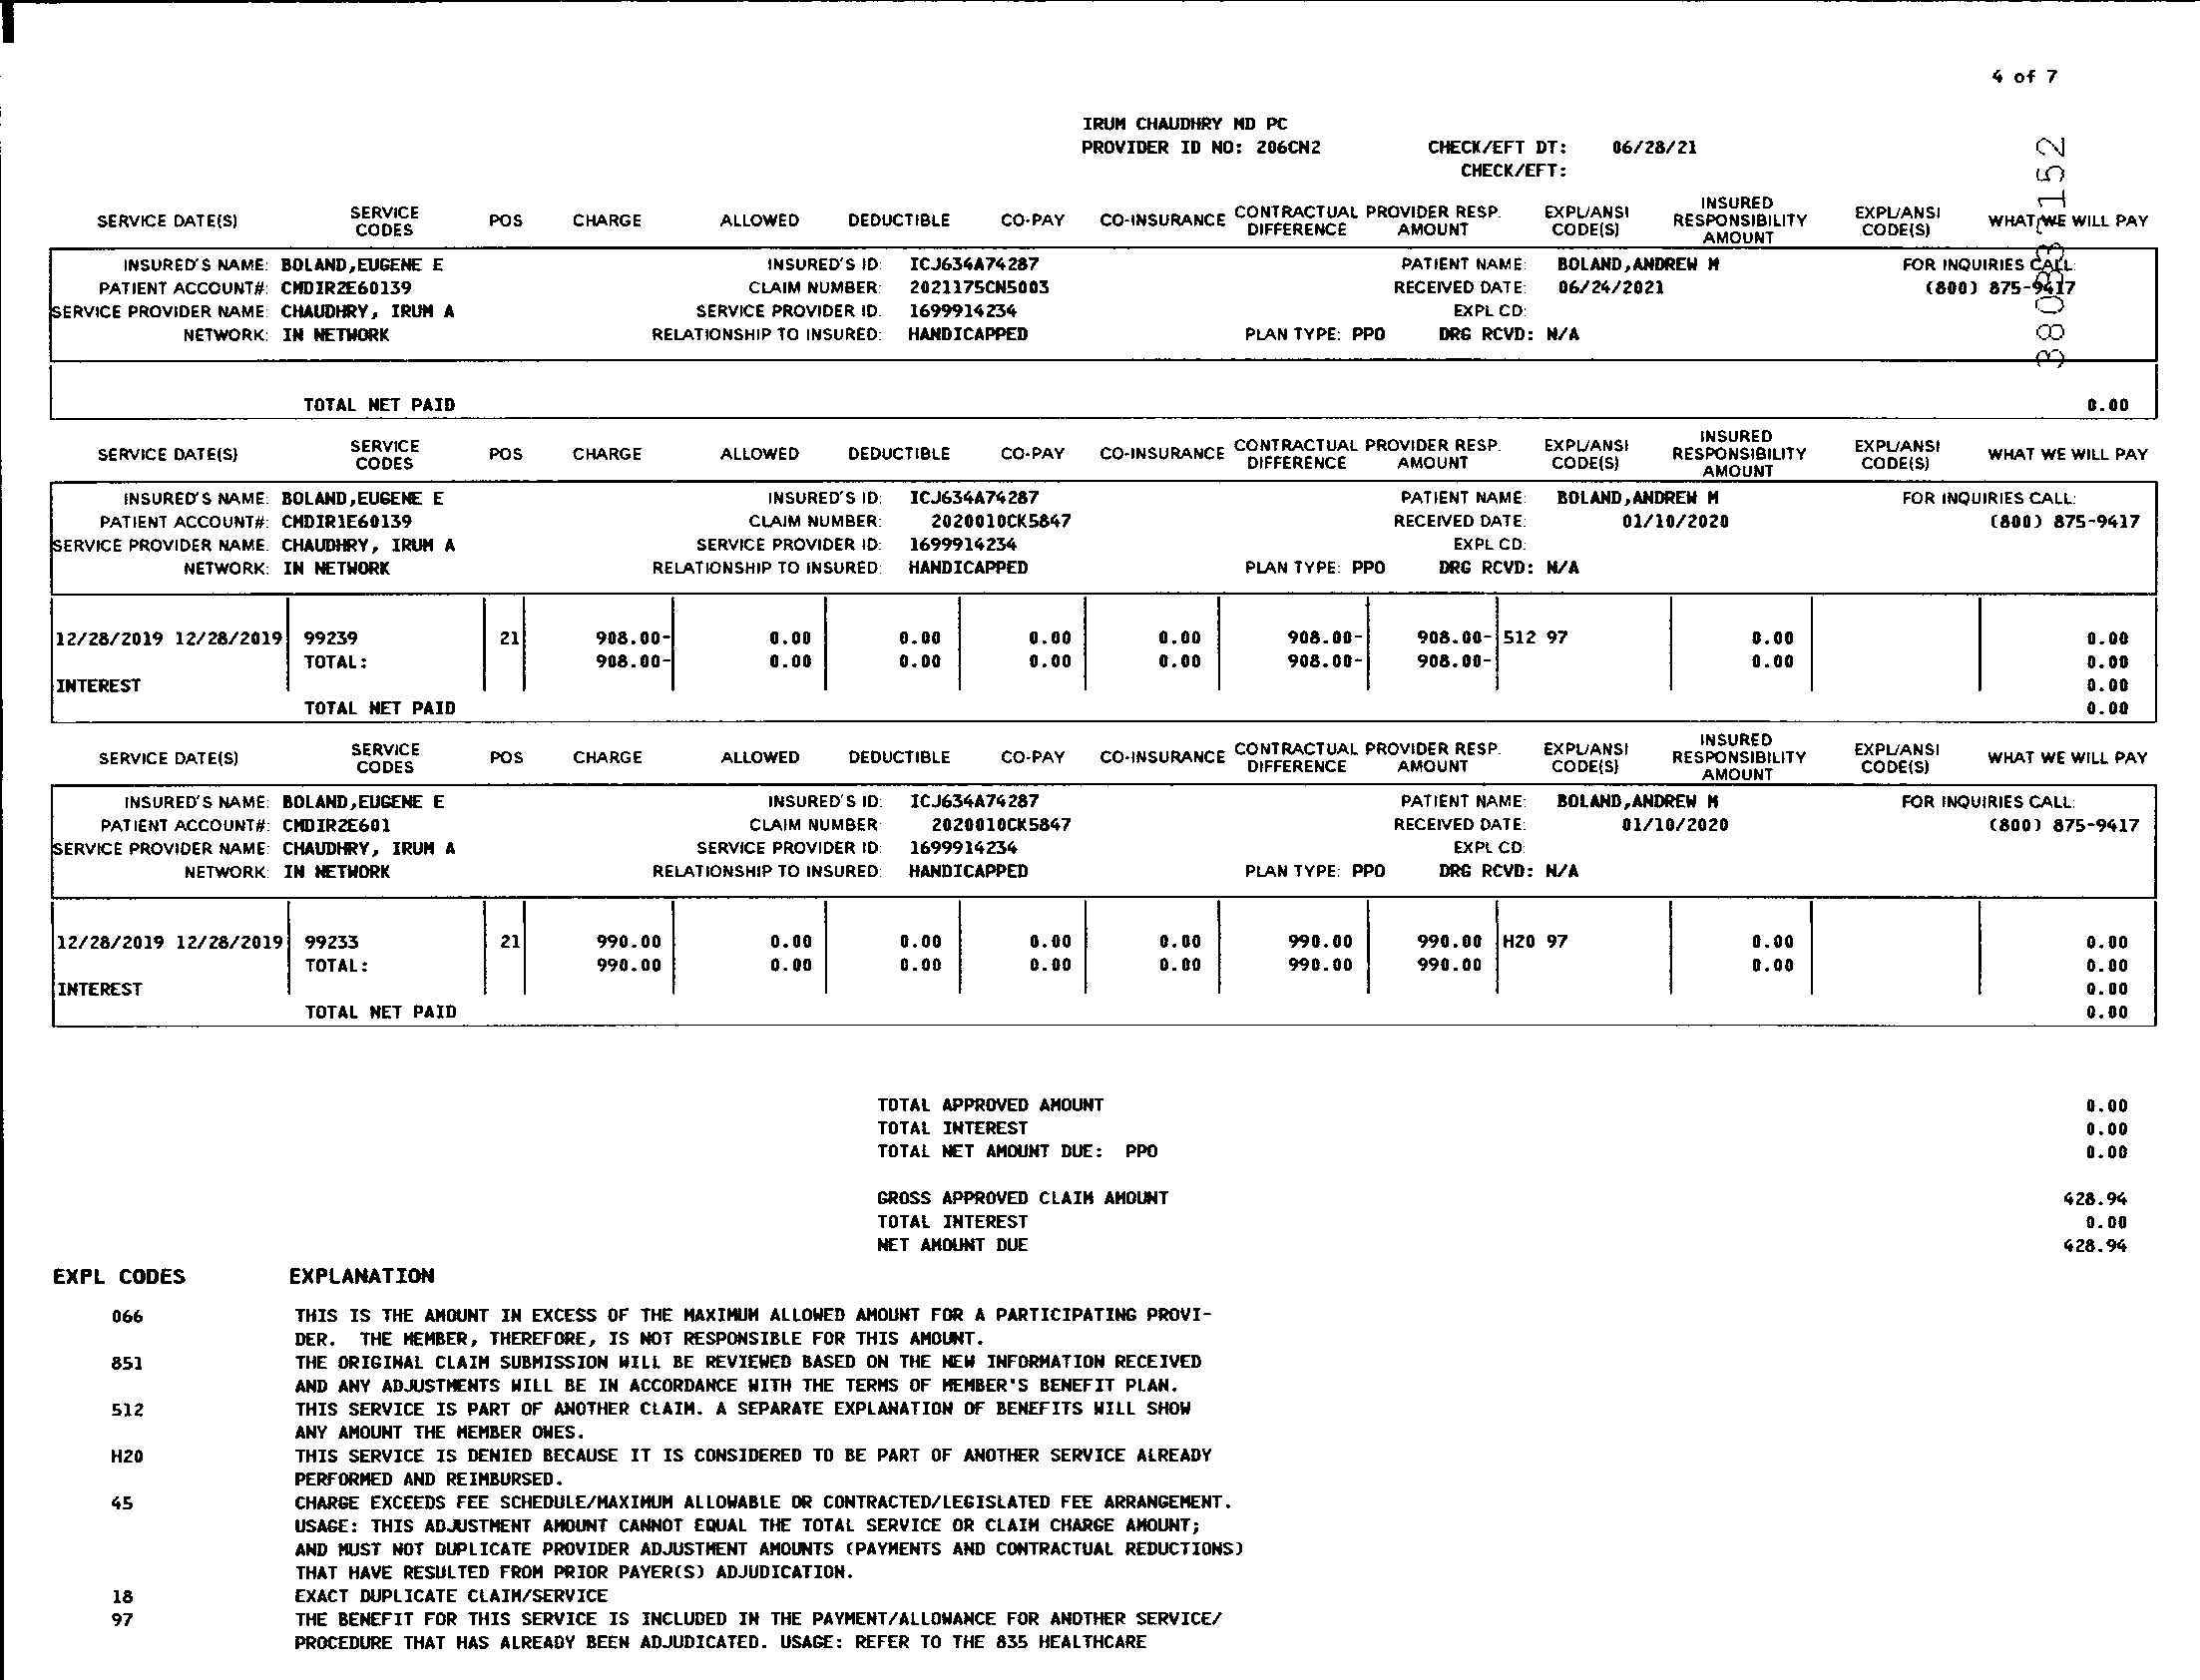data: (646, 785, 1076, 895), (644, 485, 1083, 586), (55, 785, 468, 888), (651, 254, 1073, 351), (51, 254, 464, 349), (55, 487, 464, 582), (1381, 784, 1754, 888), (1387, 245, 1741, 348), (1392, 484, 1738, 582)
table: (35, 196, 2165, 1036)
